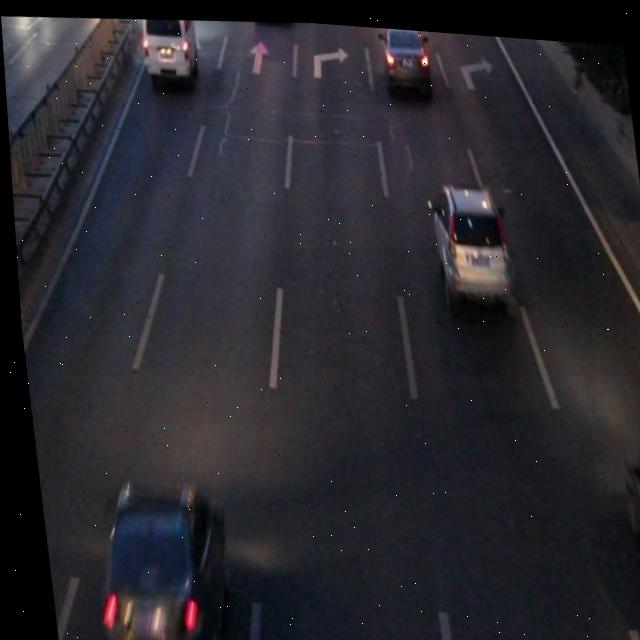car: (85, 476, 228, 640), (423, 176, 509, 301), (615, 435, 640, 613), (378, 22, 429, 86)
truck: (141, 14, 198, 76)
